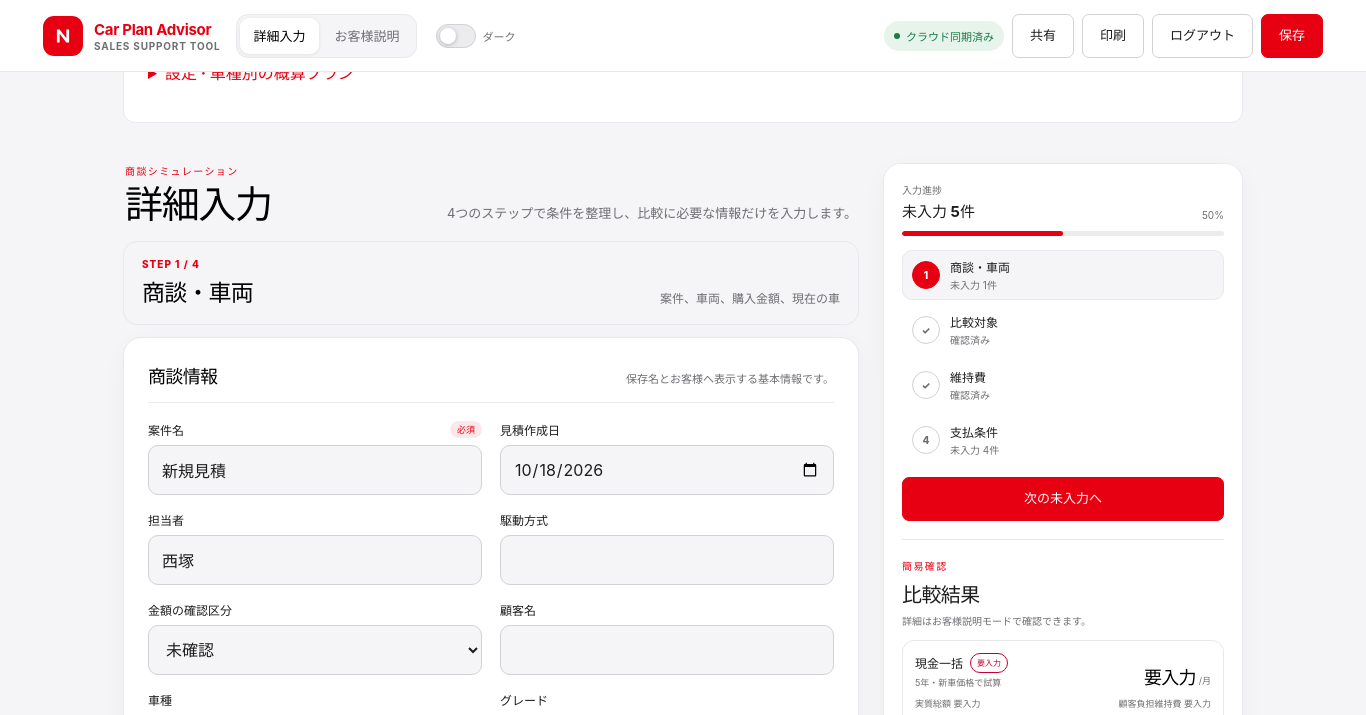
it: App › organizes inputs into four stages and keeps maintenance values separated
(page scrolled)
expect the heading "詳細入力" is shown: met, box x1=125 y1=184 x2=272 y2=225
expect the heading "商談・車両" is shown: met, box x1=142 y1=274 x2=253 y2=308
Click the button "✓ 維持費 確認済み". click: (968, 377)
box: x1=902 y1=360 x2=1224 y2=410
(page scrolled)
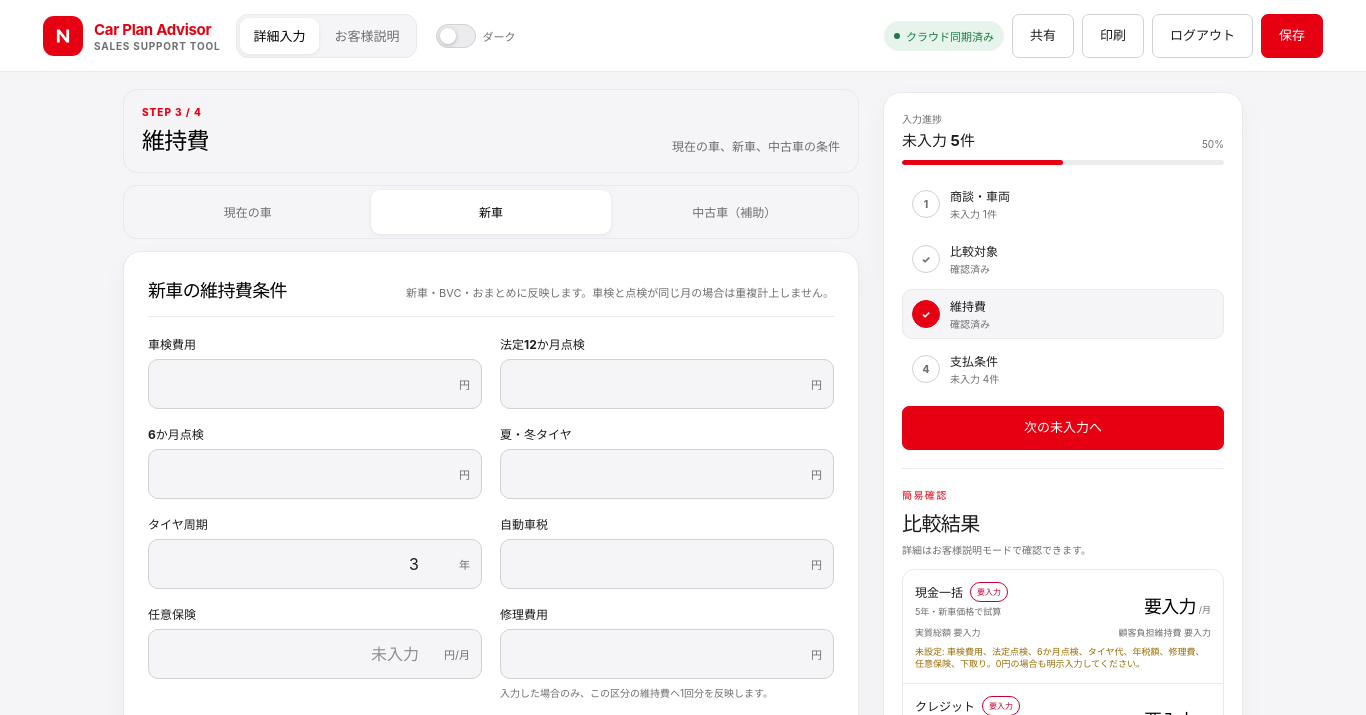
expect the heading "新車の維持費条件" is shown: met, box x1=148 y1=276 x2=287 y2=302
expect the field named "任意保険" is empty: met, box x1=148 y1=629 x2=482 y2=679
expect the field named "修理費用" is empty: met, box x1=500 y1=629 x2=834 y2=679
Click the tab "現在の車". click: (248, 212)
box: x1=128 y1=190 x2=367 y2=234
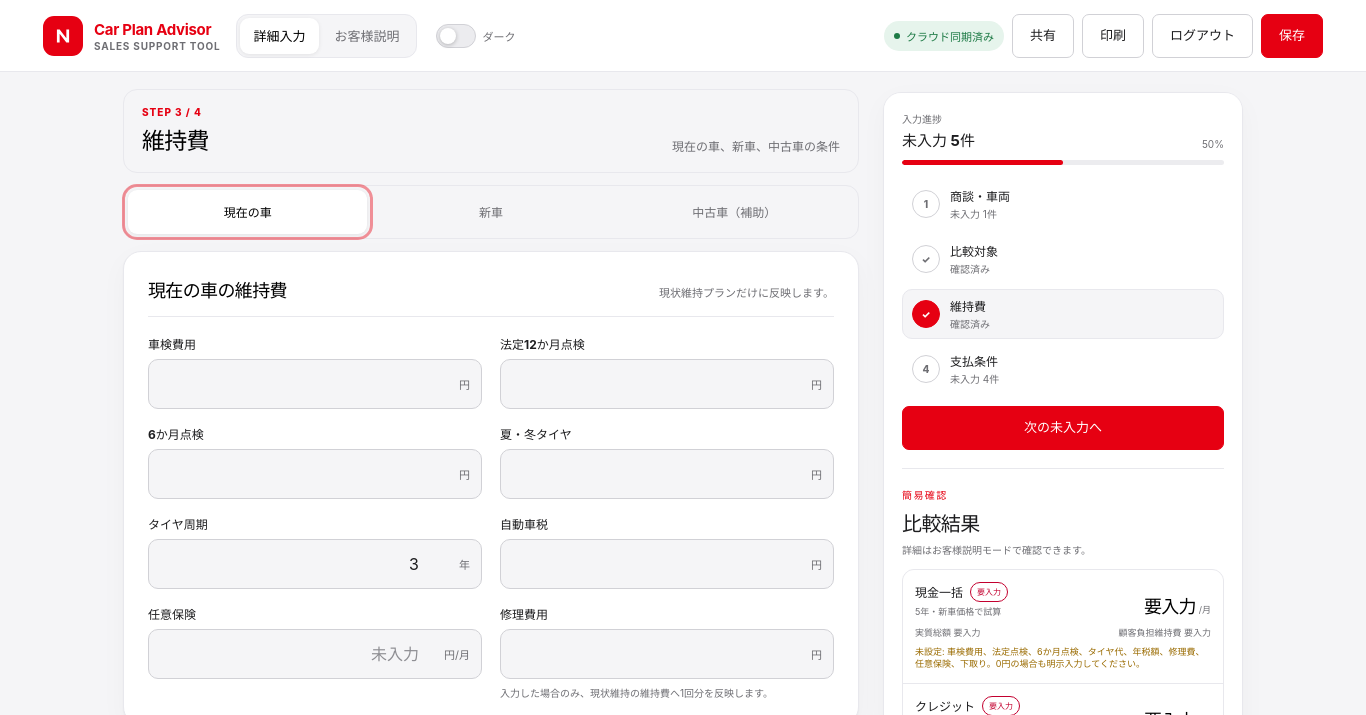
expect the field named "任意保険" is empty: met, box x1=148 y1=629 x2=482 y2=679
expect the heading "現在の車の維持費" is shown: met, box x1=148 y1=276 x2=287 y2=302
Click the tab "中古車（補助）". click: (734, 212)
box: x1=615 y1=190 x2=854 y2=234
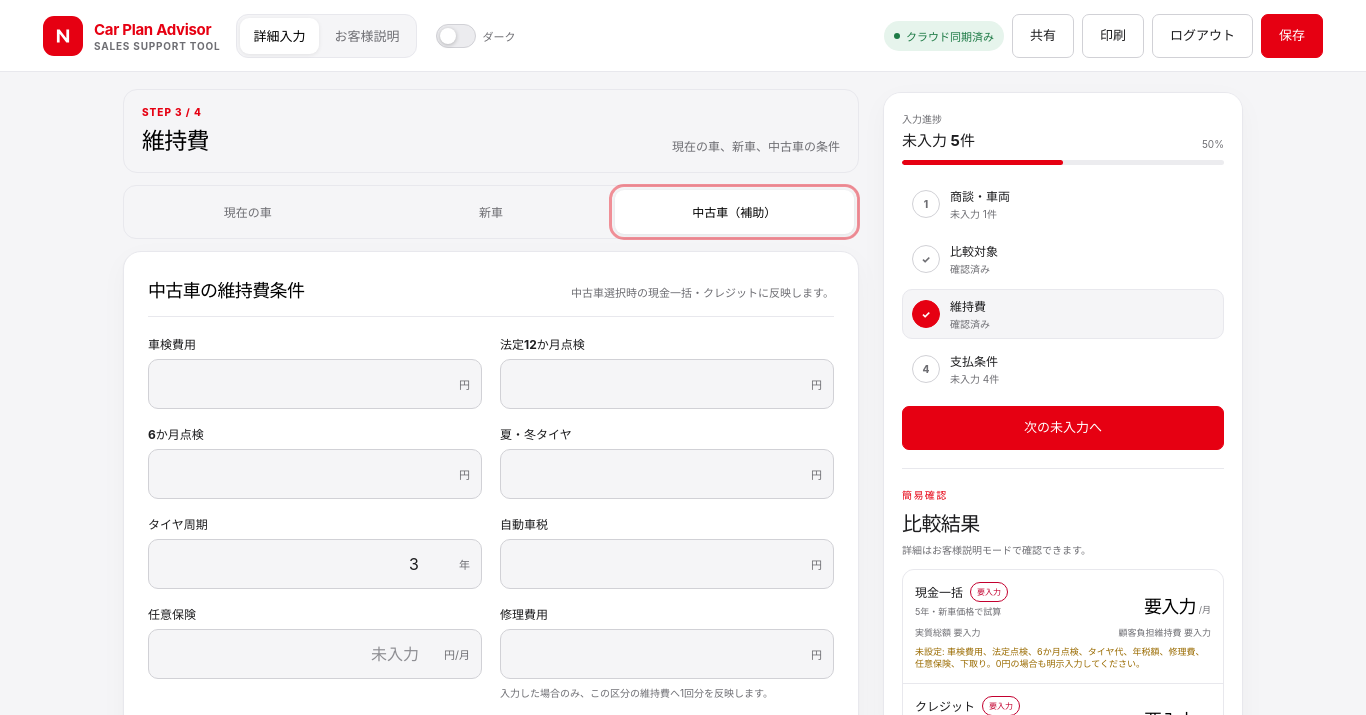
expect the field named "任意保険" is empty: met, box x1=148 y1=629 x2=482 y2=679
expect the heading "中古車の維持費条件" is shown: met, box x1=148 y1=276 x2=304 y2=302
Click the button "4 支払条件 未入力 4件". click: (974, 362)
box: x1=902 y1=344 x2=1224 y2=394
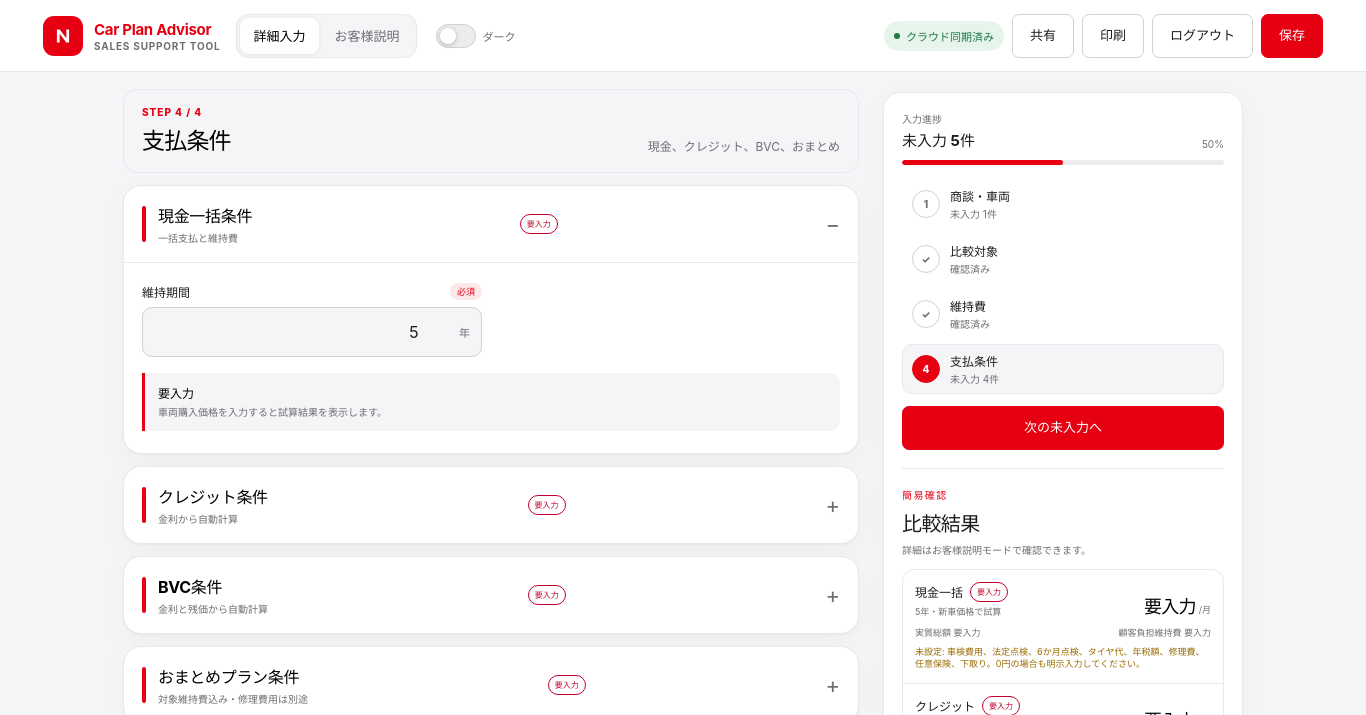
expect the heading "BVC条件" is shown: met, box x1=158 y1=577 x2=222 y2=597
expect the heading "おまとめプラン条件" is shown: met, box x1=158 y1=664 x2=308 y2=688
